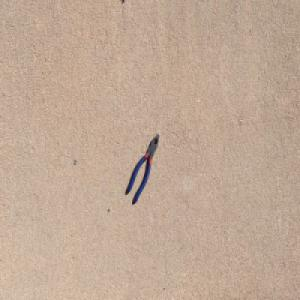Pliers: (126, 132, 160, 204)
